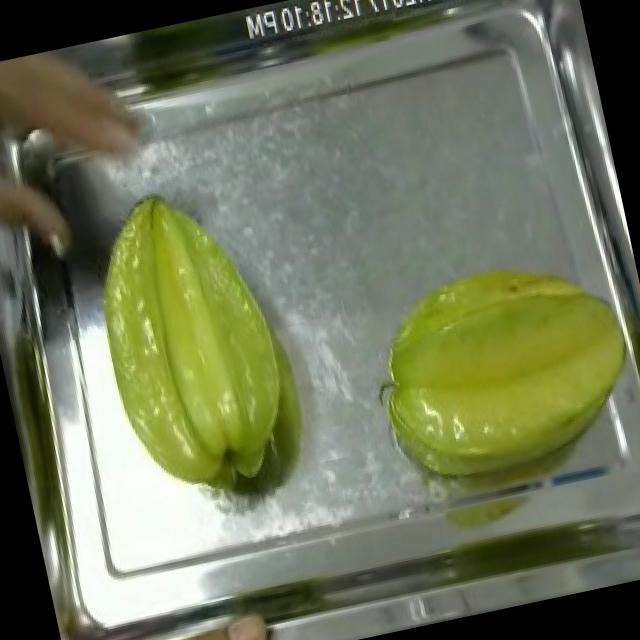fruit: (67, 166, 320, 514), (350, 232, 640, 513), (59, 589, 284, 640)
